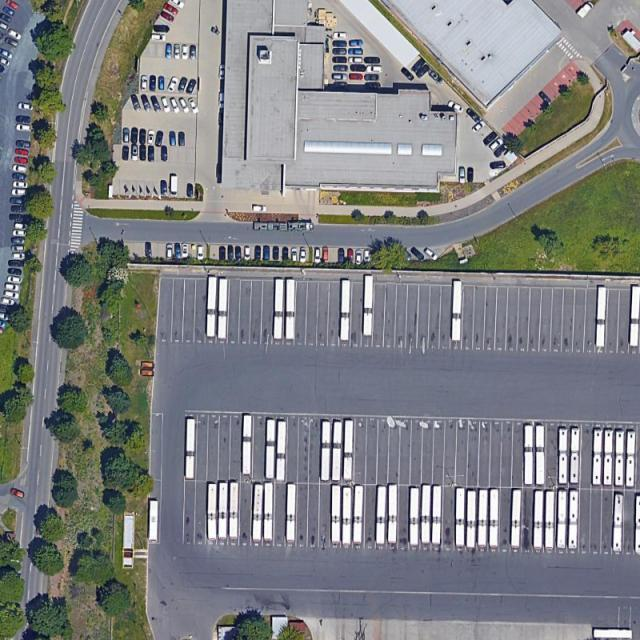vehicle: (612, 494, 625, 553), (273, 278, 285, 340), (342, 420, 354, 481), (320, 421, 332, 482), (339, 280, 351, 341), (252, 483, 264, 543), (478, 489, 490, 547), (217, 482, 229, 540), (363, 274, 374, 336), (387, 483, 398, 544), (511, 488, 522, 549), (185, 418, 196, 479), (276, 421, 287, 482), (451, 280, 462, 341), (629, 286, 640, 347), (206, 277, 217, 338), (342, 486, 353, 546), (432, 486, 443, 546), (455, 487, 466, 547), (558, 427, 569, 486), (353, 485, 364, 544), (331, 422, 342, 481), (242, 415, 253, 474), (286, 483, 297, 542), (207, 484, 218, 542), (592, 429, 603, 486), (524, 424, 534, 486), (614, 430, 625, 486), (603, 430, 614, 486), (218, 279, 228, 340), (597, 286, 607, 347), (536, 426, 546, 486), (331, 485, 341, 545), (534, 490, 544, 550), (558, 489, 568, 549), (264, 482, 274, 542), (545, 490, 555, 550), (376, 486, 386, 545), (569, 490, 579, 549), (570, 427, 580, 485), (466, 490, 476, 548), (489, 489, 499, 547), (422, 484, 431, 545), (286, 279, 295, 340), (266, 419, 275, 479), (410, 487, 419, 546), (626, 430, 635, 488), (230, 483, 239, 540), (594, 627, 634, 639), (149, 500, 158, 542), (634, 495, 640, 554), (158, 7, 177, 24), (577, 1, 595, 18), (494, 142, 511, 160), (414, 62, 431, 79), (428, 69, 445, 86), (410, 245, 427, 262), (165, 76, 181, 94), (447, 100, 465, 116), (466, 107, 482, 125), (488, 137, 506, 153), (399, 66, 416, 82), (410, 57, 426, 74), (184, 78, 198, 97), (482, 131, 498, 147), (422, 246, 439, 261), (178, 96, 191, 115), (140, 93, 153, 112), (130, 93, 142, 113), (187, 96, 200, 114), (162, 2, 180, 15), (176, 77, 189, 95), (150, 94, 162, 113), (471, 120, 487, 134), (169, 97, 181, 115), (7, 28, 23, 41), (161, 96, 172, 114), (2, 289, 20, 300), (538, 91, 552, 105), (10, 488, 25, 501), (154, 130, 165, 147), (4, 36, 19, 48), (170, 174, 178, 196), (16, 123, 33, 133), (16, 139, 33, 149), (6, 274, 23, 284), (12, 188, 30, 197), (299, 246, 308, 264), (18, 102, 34, 112), (147, 130, 156, 147), (153, 24, 170, 33), (150, 33, 167, 42), (13, 180, 30, 189), (10, 205, 27, 214), (331, 73, 350, 81), (17, 114, 33, 123), (130, 143, 138, 161), (15, 148, 31, 157), (165, 42, 173, 60), (149, 76, 158, 92), (12, 164, 30, 172), (4, 283, 20, 292), (14, 222, 30, 231), (6, 260, 24, 268), (8, 268, 24, 277), (181, 242, 190, 258), (350, 64, 366, 73), (466, 166, 474, 184), (458, 166, 466, 184), (1, 46, 12, 59), (139, 129, 147, 146), (145, 241, 153, 258), (160, 147, 169, 162), (218, 65, 227, 80), (218, 247, 227, 262), (2, 5, 14, 16), (131, 128, 139, 144), (14, 157, 30, 165), (173, 43, 181, 59), (141, 76, 149, 92), (13, 173, 29, 181), (9, 214, 25, 222), (166, 244, 174, 260), (366, 82, 382, 90), (367, 66, 383, 74), (348, 48, 364, 56), (490, 162, 506, 170), (235, 246, 243, 262), (272, 245, 280, 261), (331, 82, 349, 89), (178, 132, 186, 147), (122, 146, 130, 161), (333, 65, 348, 73), (365, 74, 380, 82), (148, 146, 155, 163), (140, 145, 147, 162), (161, 179, 168, 196), (263, 245, 270, 262), (190, 44, 197, 60), (158, 77, 166, 91), (1, 298, 15, 306), (13, 229, 27, 237), (10, 245, 26, 252), (198, 245, 205, 261), (174, 243, 181, 259), (365, 57, 381, 64), (333, 56, 347, 64), (332, 47, 346, 55), (218, 92, 225, 108), (228, 246, 235, 262), (338, 248, 346, 262), (255, 246, 262, 262), (282, 247, 290, 261), (6, 1, 18, 10), (123, 128, 130, 143), (170, 131, 177, 146), (182, 45, 189, 60), (187, 183, 194, 198), (356, 250, 363, 265), (315, 248, 322, 263), (10, 198, 24, 205), (349, 57, 363, 64), (348, 40, 362, 47), (333, 40, 347, 47), (245, 246, 251, 262), (12, 237, 25, 244), (349, 74, 364, 80), (1, 12, 10, 22), (253, 206, 267, 212), (348, 249, 354, 263), (322, 247, 328, 261), (363, 250, 370, 262), (11, 254, 26, 259), (334, 32, 346, 38), (292, 248, 297, 262), (1, 57, 8, 66)
